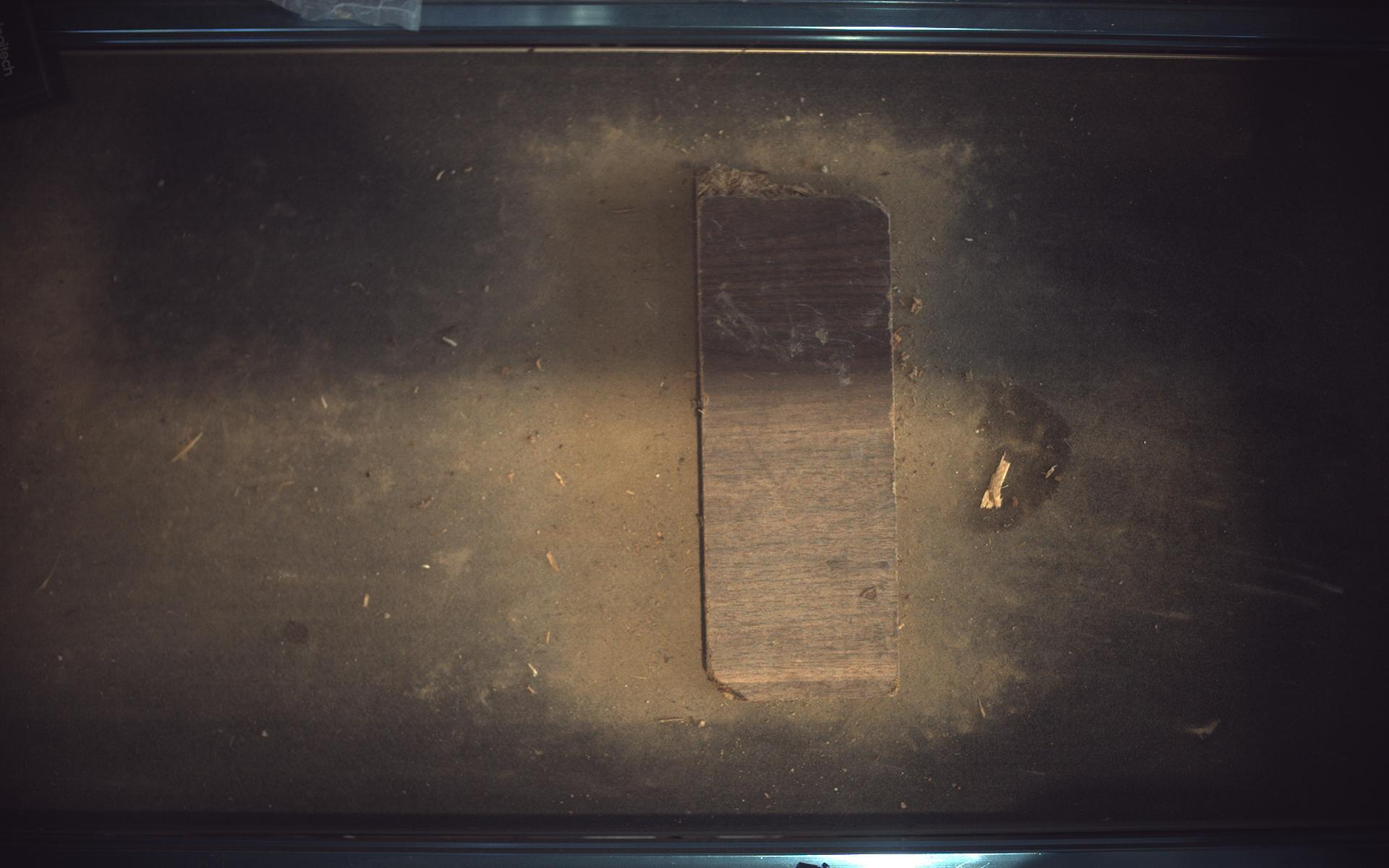wood: (698, 166, 900, 702)
